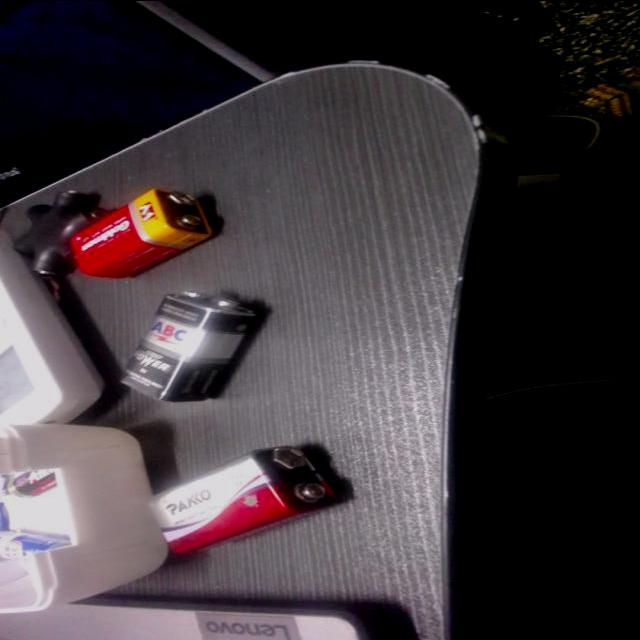9V: (134, 434, 356, 556), (104, 285, 279, 404), (56, 179, 228, 285)
